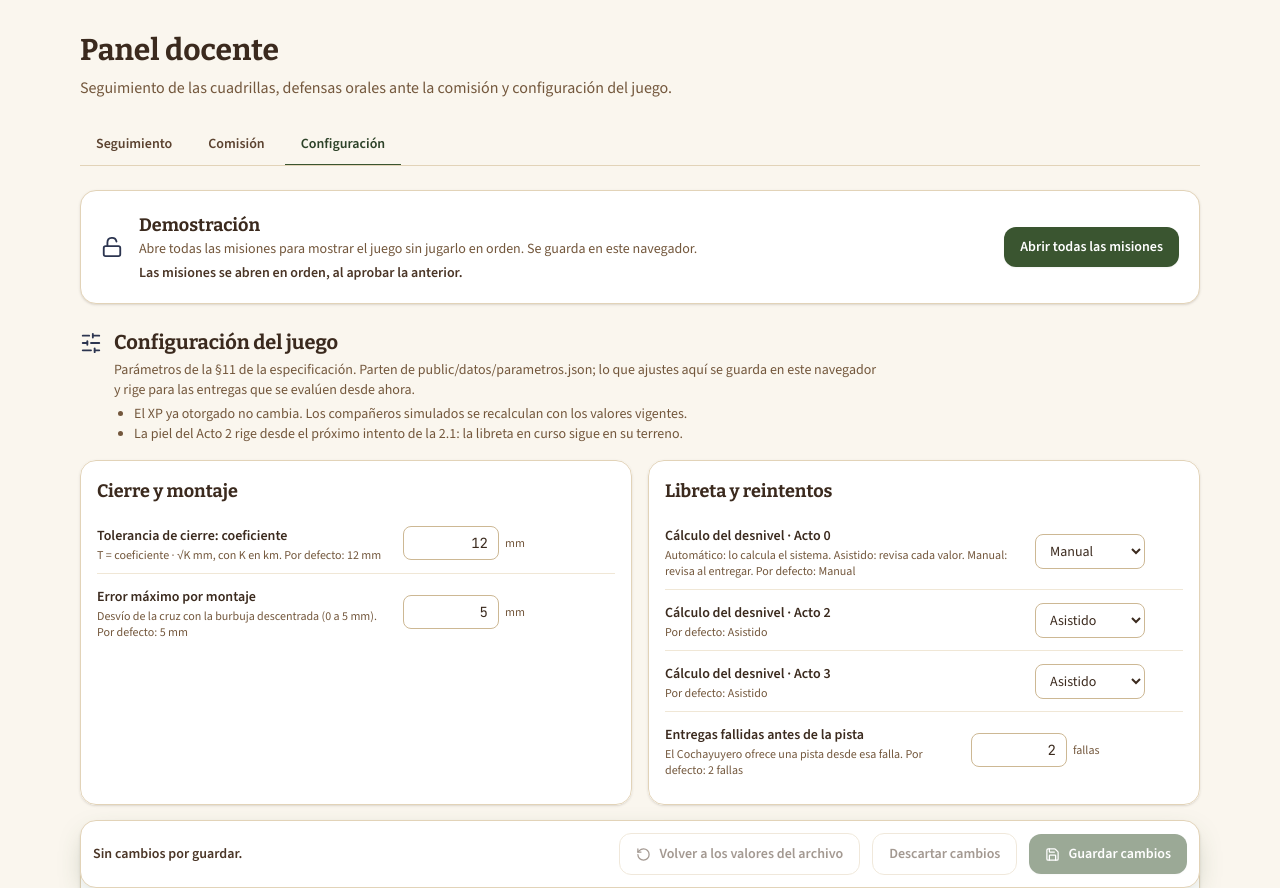
Test: Panel docente · configuración › guarda un ajuste válido, que pasa a regir
The width and height of the screenshot is (1280, 888).
Replace the text in the field labelled "Tolerancia de cierre: coeficiente" with "10". click: (451, 543)
box: x1=403 y1=526 x2=499 y2=560
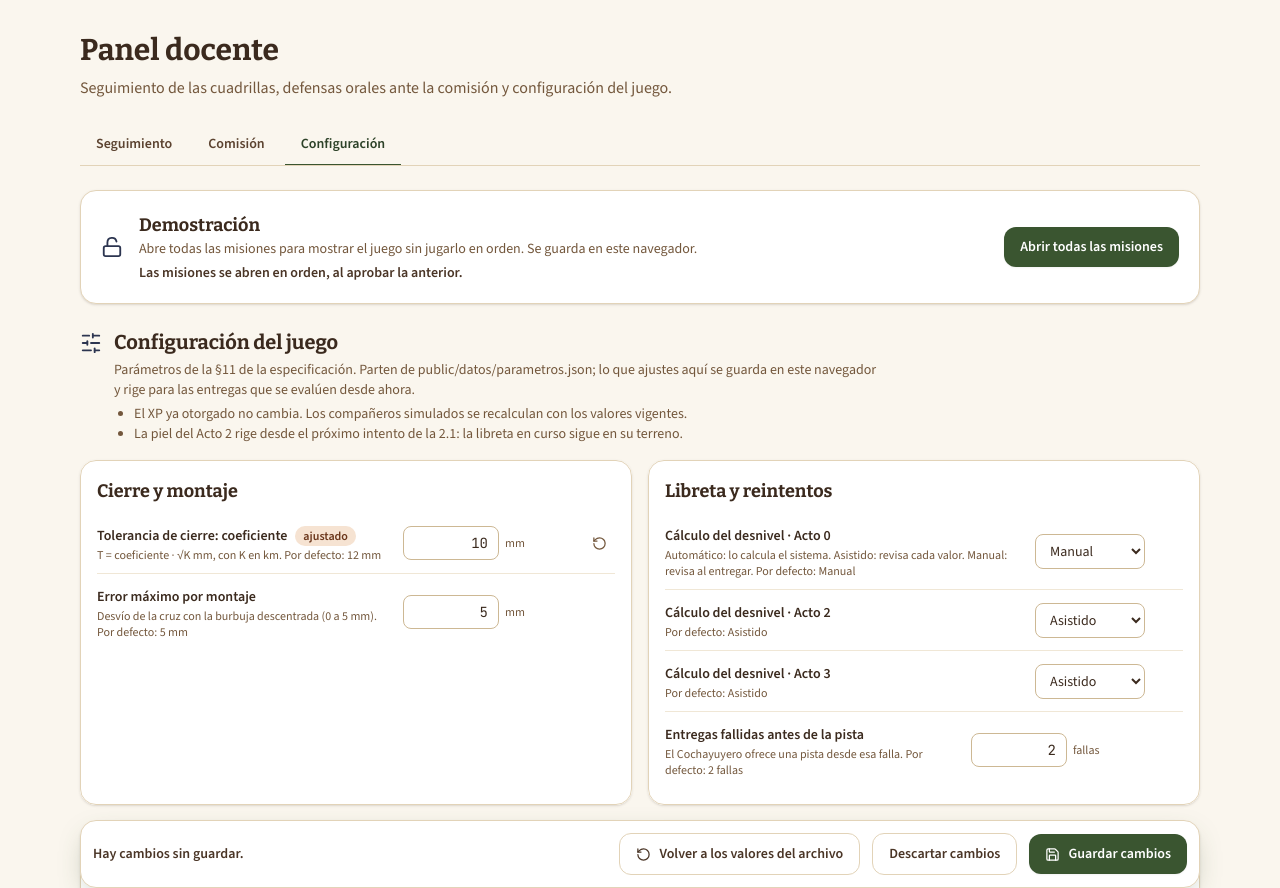
Now the text "Hay cambios sin guardar." is shown, box x1=93 y1=844 x2=244 y2=863
Click the button "Guardar cambios". click: click(1108, 854)
box: x1=1029 y1=834 x2=1187 y2=874
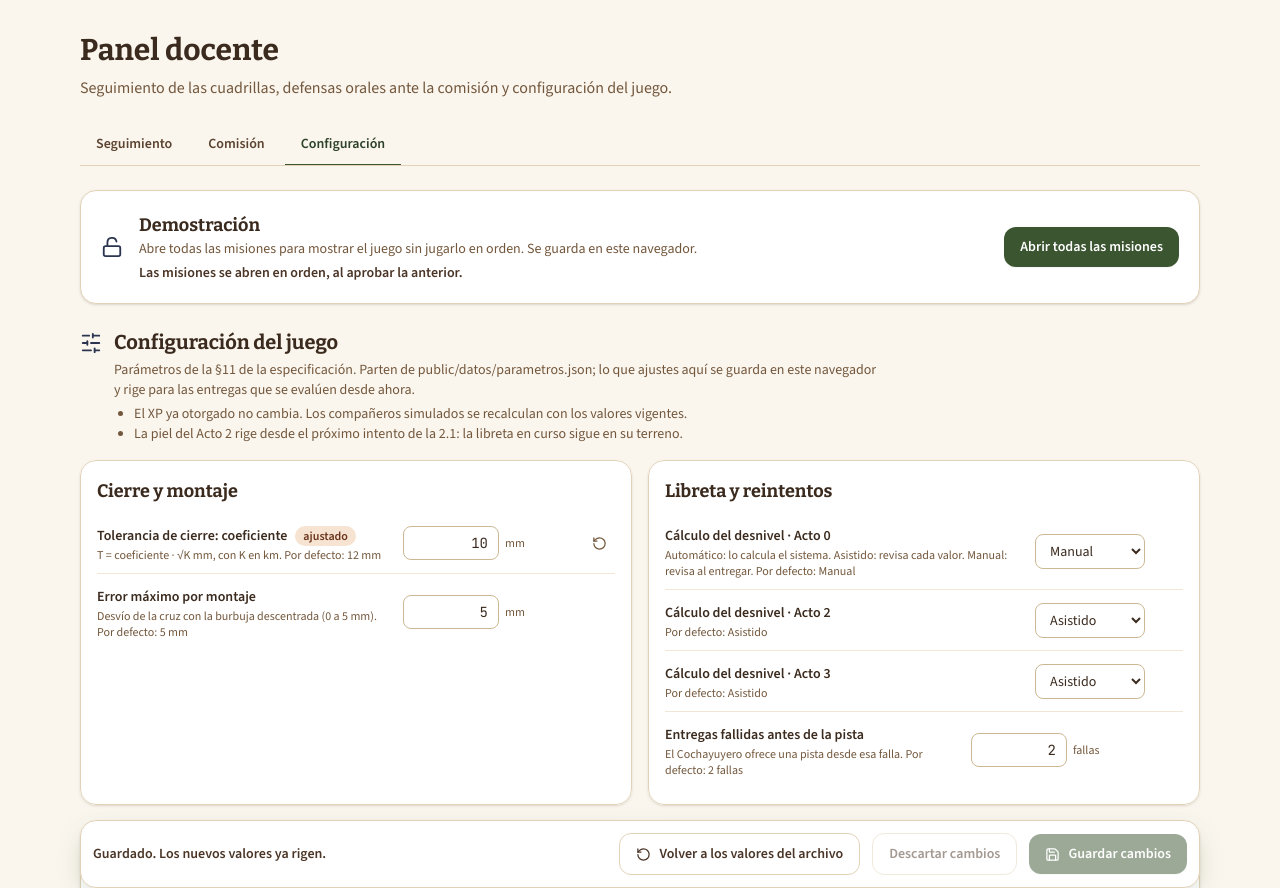
Now the field labelled "Tolerancia de cierre: coeficiente" holds "10", box x1=403 y1=526 x2=499 y2=560
Now the text "Guardado. Los nuevos valores ya rigen." is shown, box x1=93 y1=844 x2=326 y2=863
